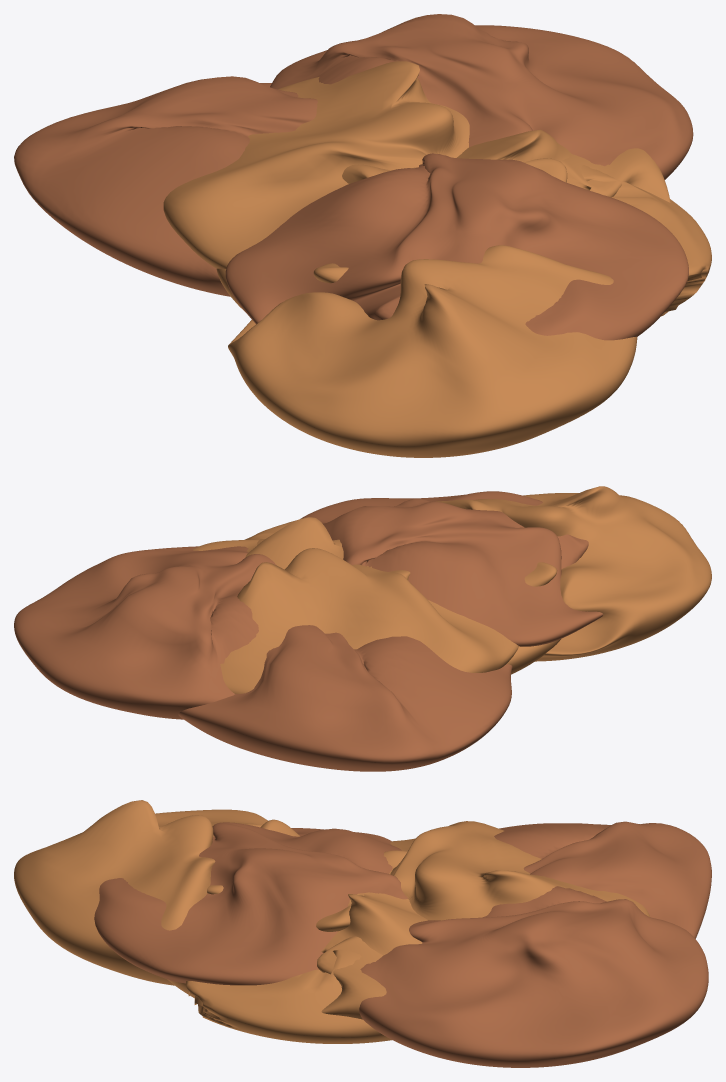
Rendered from undercookedchaipoh.fbx.
3 views of the same model, one above another, from view 1: azimuth 30°, elevation 25°; view 2: azimuth 150°, elevation 25°; view 3: azimuth 270°, elevation 25° (orthographic). The views are drawn at different scales.
Visible parts, largest first — view 1: Sphere.066, Sphere.043; view 2: Sphere.066, Sphere.043; view 3: Sphere.066, Sphere.043.
Part boxes in pixels (x1,y1,x2,y2): Sphere.066: (14, 14, 693, 340); Sphere.043: (163, 61, 711, 457); Sphere.066: (14, 491, 603, 771); Sphere.043: (193, 486, 711, 693); Sphere.066: (94, 821, 711, 1067); Sphere.043: (14, 800, 649, 1043).
Bounding box in the file's own units: 125 × 35.67 × 149.
